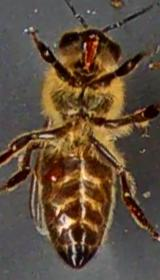varroa_mite: (34, 158, 68, 187)
